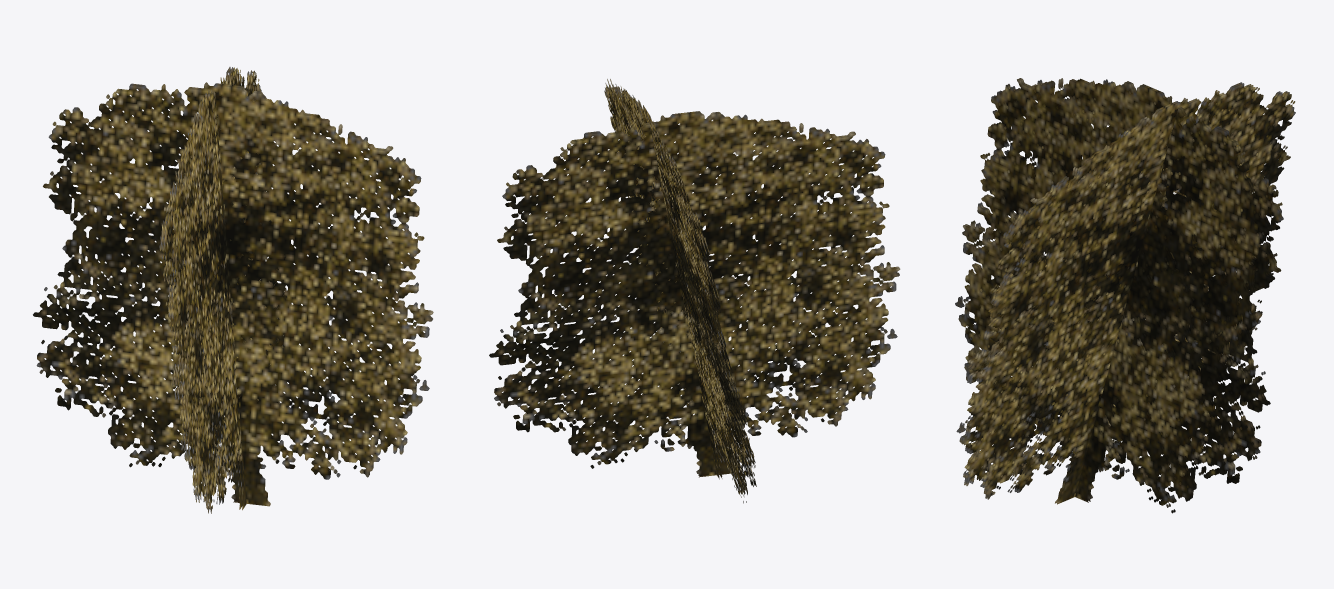
File: tree013.fbx
The picture shows the model from 3 angles, left to right: view 1: azimuth 30°, elevation 25°; view 2: azimuth 150°, elevation 25°; view 3: azimuth 270°, elevation 25°; orthographic projection. The views are drawn at different scales.
Visible parts, largest first — view 1: tree013; view 2: tree013; view 3: tree013.
Part boxes in pixels (x1,y1,x2,y2): tree013: (33, 67, 433, 513); tree013: (489, 79, 900, 503); tree013: (955, 78, 1295, 513).
Bounding box in the file's own units: 256 × 310 × 256.
1 material, 1 textured.
